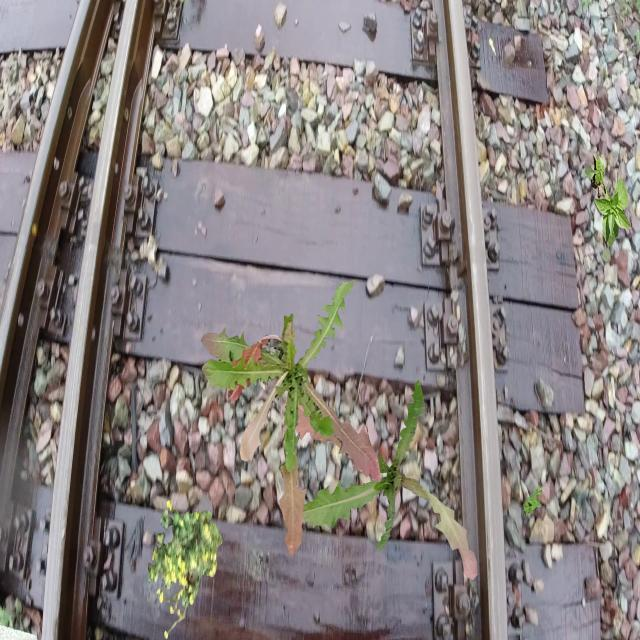Plant: (201, 280, 381, 558), (285, 378, 478, 580), (148, 500, 223, 640), (585, 153, 633, 248), (523, 485, 542, 518)
